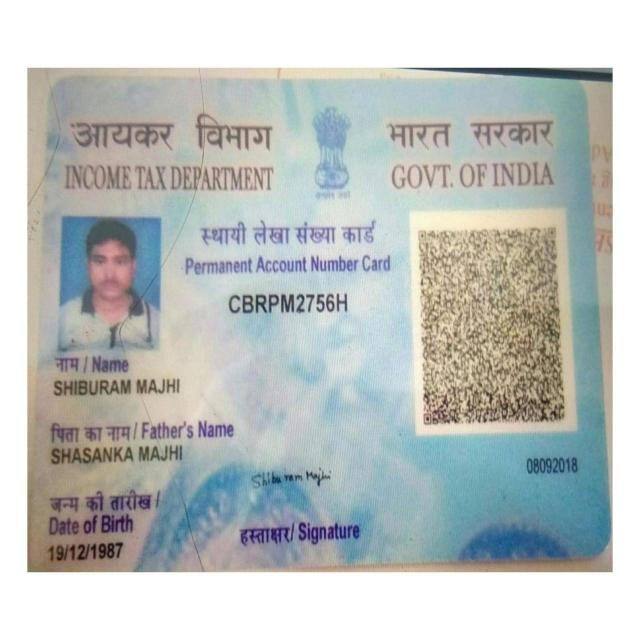pan_card: (25, 87, 604, 568)
